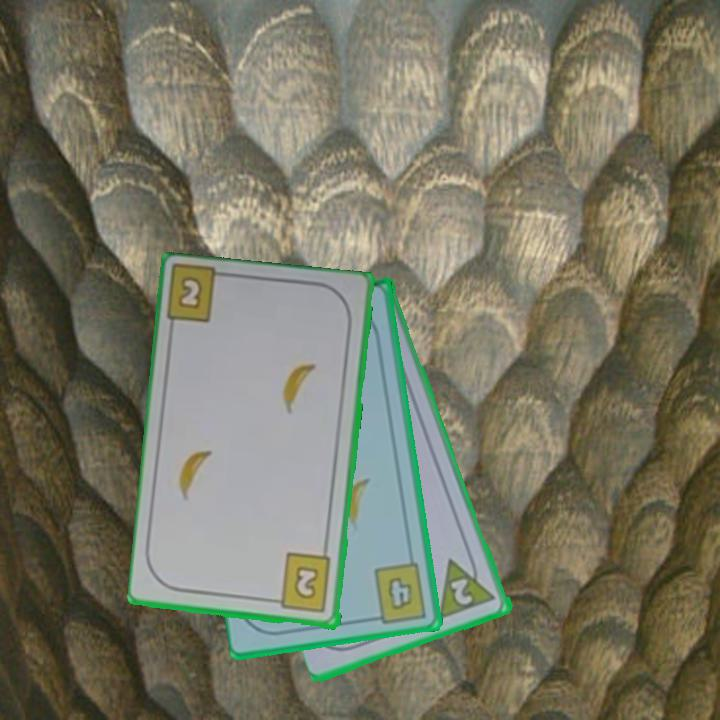2b: (268, 551, 335, 616), (175, 273, 206, 313)
2p: (447, 575, 477, 609)
4b: (367, 559, 430, 626)
